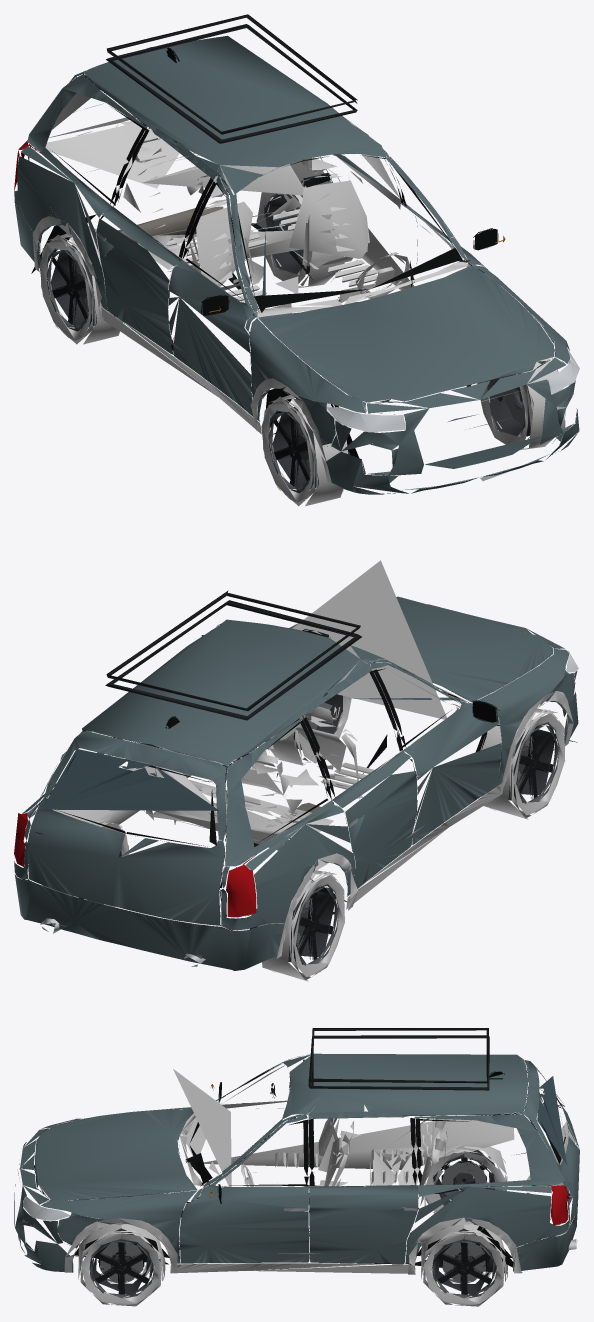
The model's file is utility.glb.
3 views of the same model, one above another, from view 1: azimuth 30°, elevation 25°; view 2: azimuth 150°, elevation 25°; view 3: azimuth 270°, elevation 25° (orthographic). The views are drawn at different scales.
Parts seen in each view (by area): view 1: Body, Wheel_FR, Wheel_RR, Wheel_FL, Wheel_RL, Steering_Wheel; view 2: Body, Wheel_FR, Wheel_RR, Wheel_FL; view 3: Body, Wheel_FL, Wheel_RL, Wheel_RR.
Boxes of the visible parts, <box> form: Body: <box>14,14,579,494</box>; Wheel_FR: <box>261,394,349,506</box>; Wheel_RR: <box>39,226,124,344</box>; Wheel_FL: <box>477,357,565,450</box>; Wheel_RL: <box>256,192,344,288</box>; Steering_Wheel: <box>355,252,409,298</box>; Body: <box>14,560,578,970</box>; Wheel_FR: <box>480,708,565,819</box>; Wheel_RR: <box>257,870,344,981</box>; Wheel_FL: <box>264,694,351,765</box>; Body: <box>14,1028,579,1279</box>; Wheel_FL: <box>78,1223,165,1306</box>; Wheel_RL: <box>421,1224,507,1306</box>; Wheel_RR: <box>423,1146,507,1213</box>.
Size of the model in its own units: 2.35 by 2.01 by 4.97.
